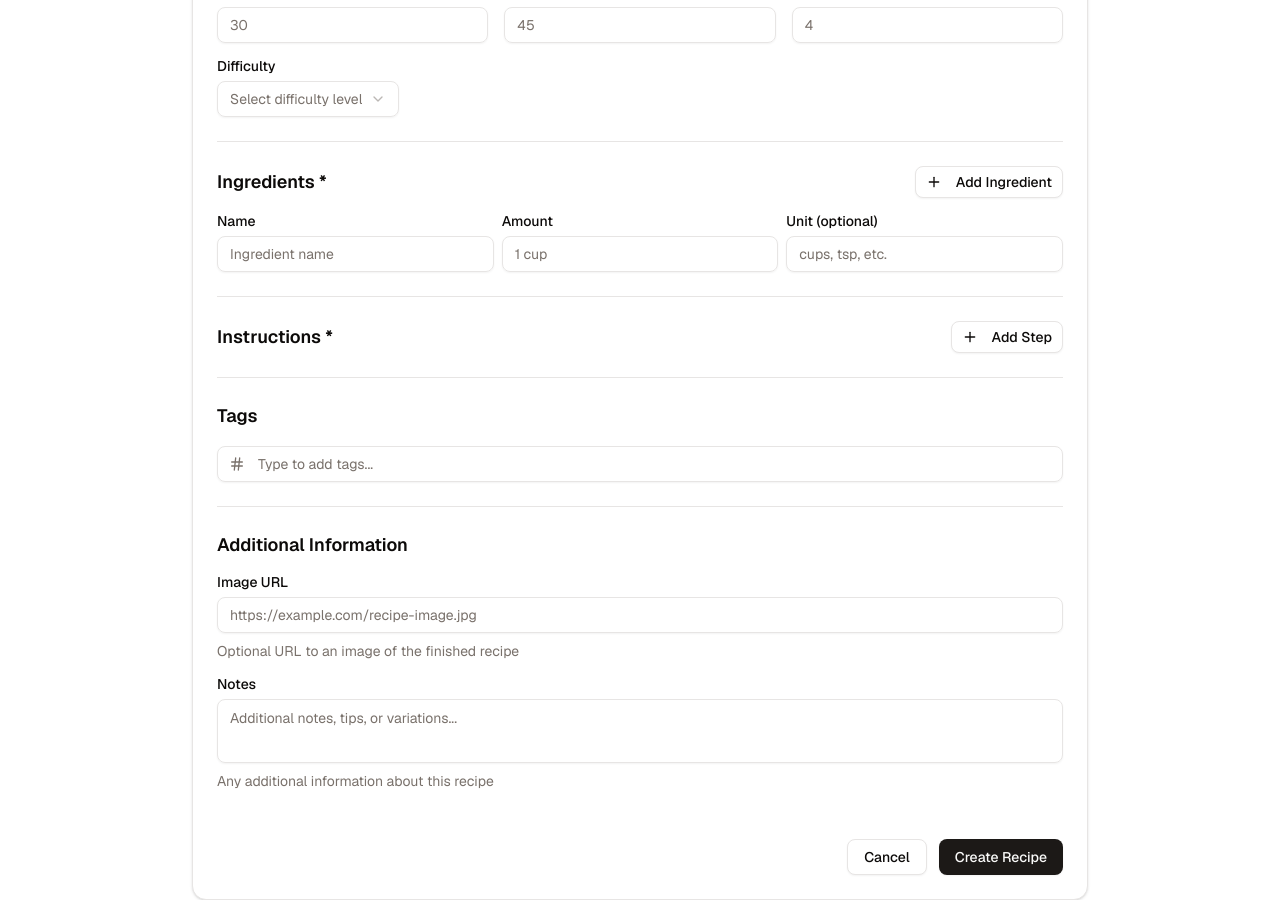
Scenario: RecipeForm › Form Validation › shows validation error for empty title
(page scrolled)
Click the button "Create Recipe" at point(1001, 857), box [939,839,1063,875]
(page scrolled)
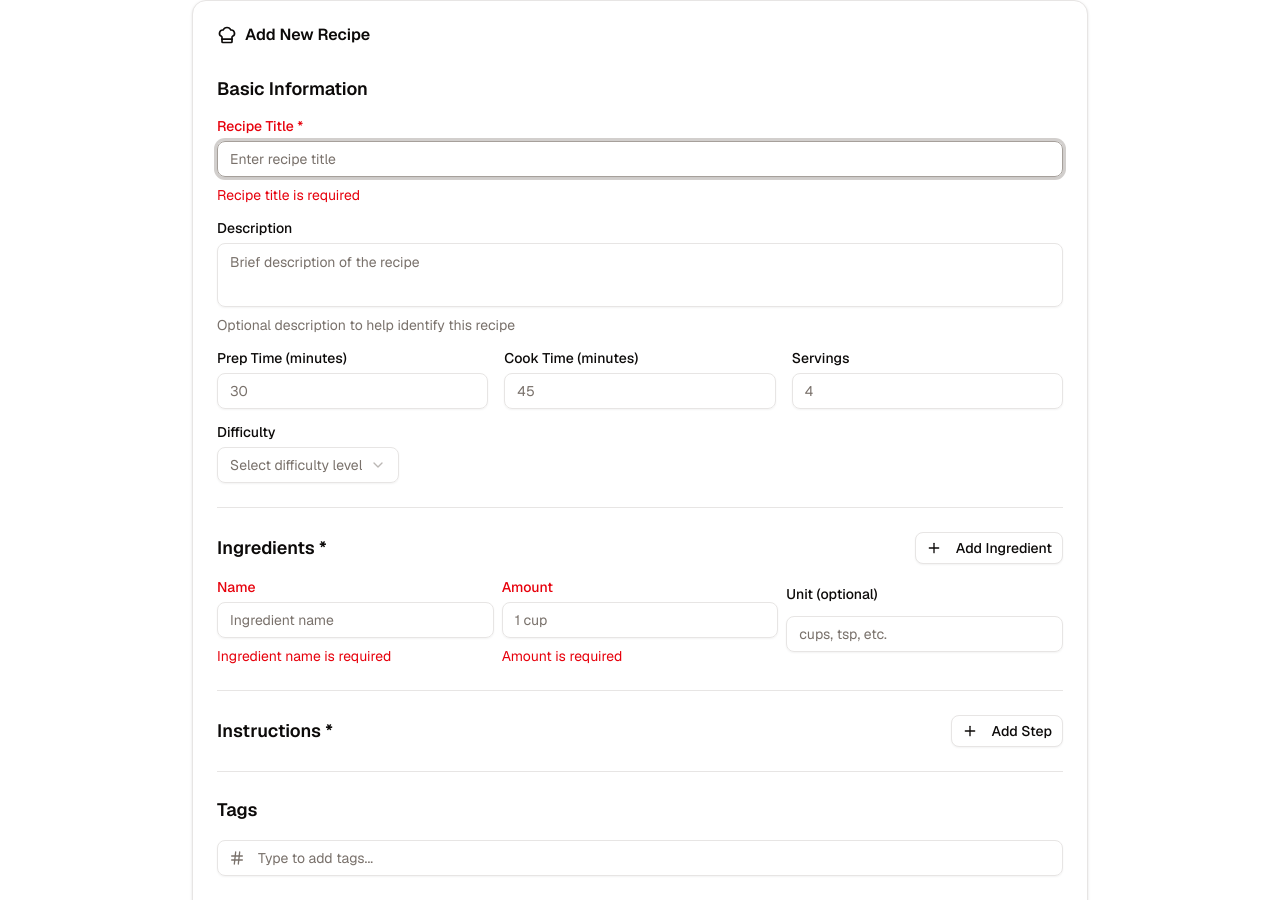
Result: the text "Recipe title is required" is shown at [217,186,360,204]
